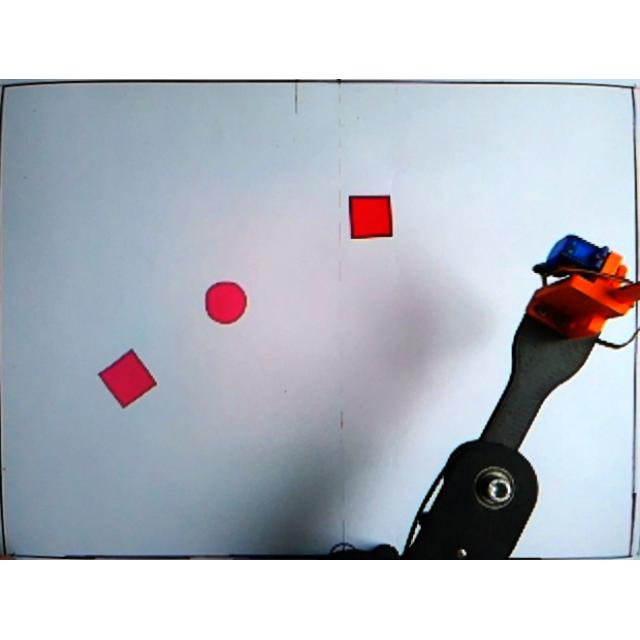pinkCircle: (205, 282, 248, 326)
pinkSquare: (98, 348, 158, 410)
redSquare: (347, 194, 393, 244)
